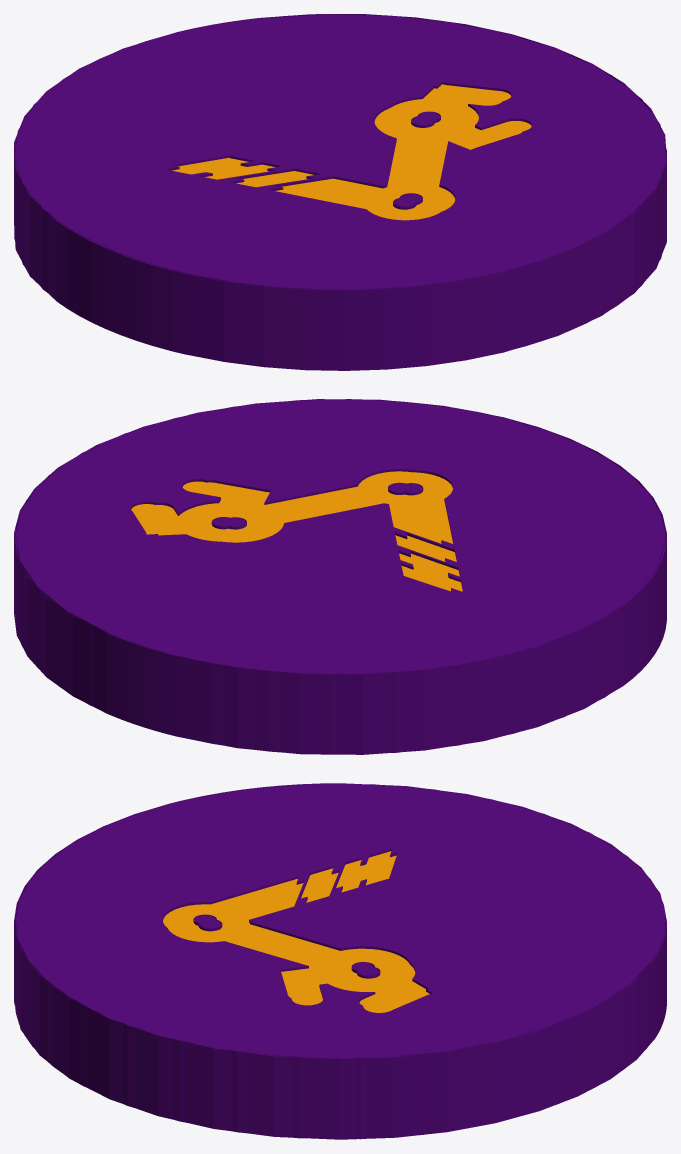
The model's file is refeitaSemChanfro.gltf.
3 views of the same model, one above another, from view 1: azimuth 30°, elevation 25°; view 2: azimuth 150°, elevation 25°; view 3: azimuth 270°, elevation 25° (orthographic).
Visible parts, largest first — view 1: Mesh_Mesh_head_geo.001_lambert2SG.002, Cube; view 2: Mesh_Mesh_head_geo.001_lambert2SG.002, Cube; view 3: Mesh_Mesh_head_geo.001_lambert2SG.002, Cube.
Part boxes in pixels (box(x1,y1,x2,y2)): Mesh_Mesh_head_geo.001_lambert2SG.002: box(14, 14, 666, 370); Cube: box(172, 84, 531, 220); Mesh_Mesh_head_geo.001_lambert2SG.002: box(14, 399, 666, 754); Cube: box(131, 471, 462, 591); Mesh_Mesh_head_geo.001_lambert2SG.002: box(14, 783, 666, 1139); Cube: box(163, 851, 429, 1012).
Size of the model in its own units: 2.18 by 0.2971 by 2.18.
